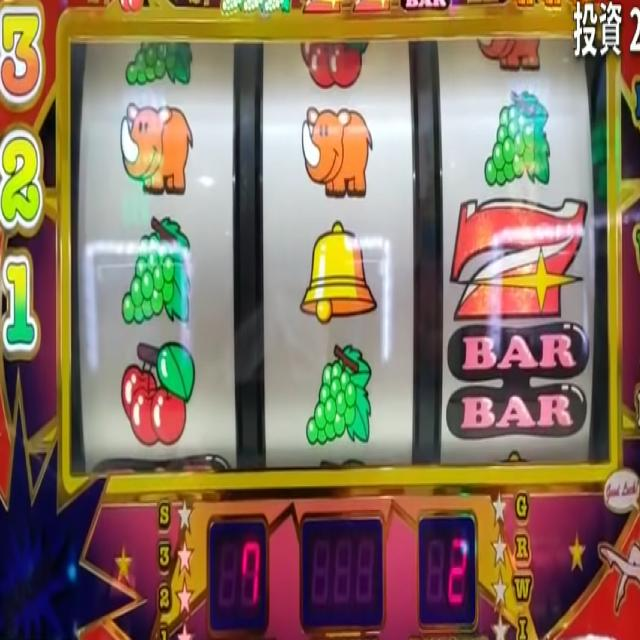bar: (446, 321, 589, 444)
bell: (301, 219, 378, 328)
cherry: (122, 341, 195, 449), (298, 36, 370, 86)
display: (70, 35, 614, 467)
elephant: (120, 99, 193, 196), (300, 108, 372, 196), (477, 38, 545, 72)
grape: (122, 214, 193, 329), (484, 87, 552, 189), (306, 348, 373, 448), (124, 42, 195, 88)
z: (453, 198, 586, 319)
